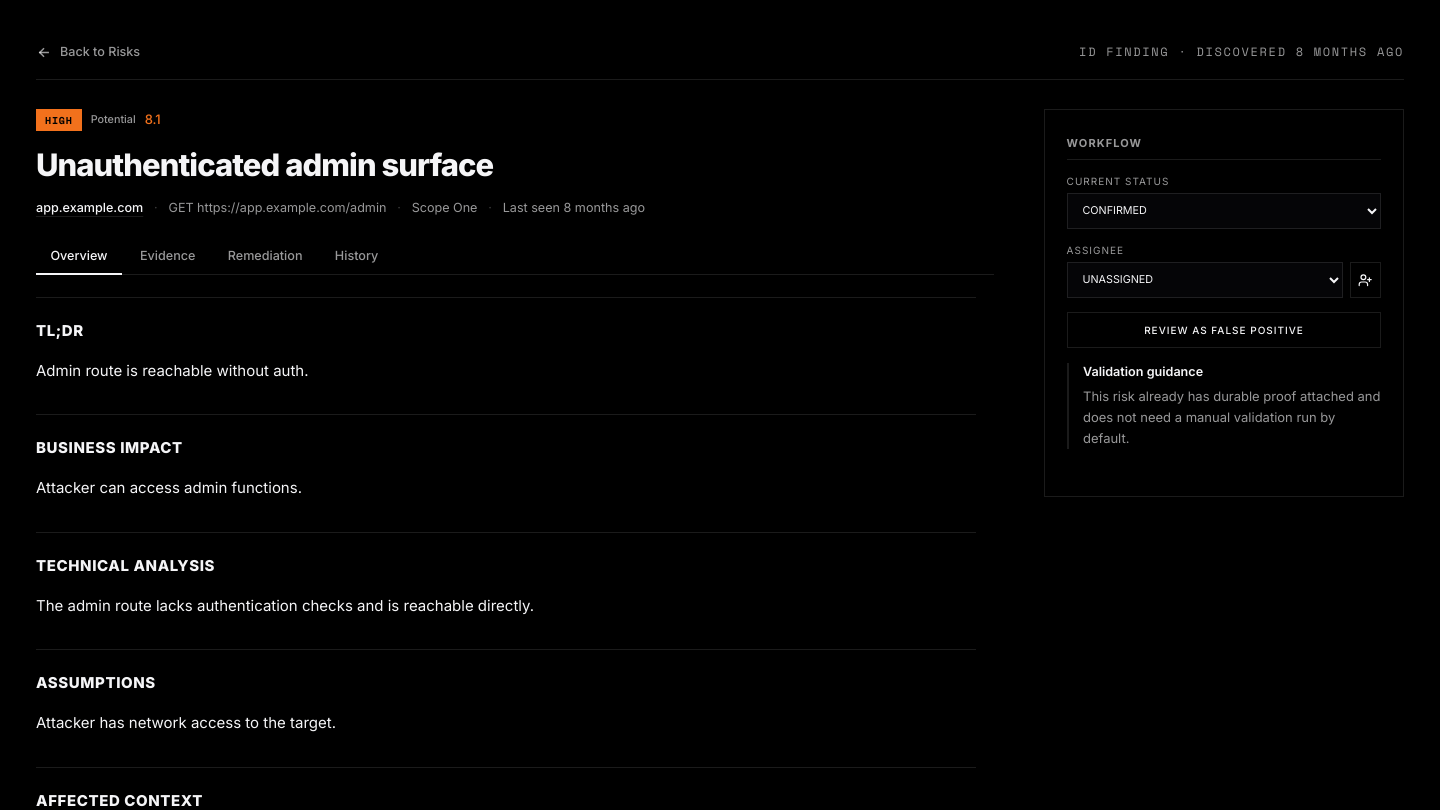
FindingDetailPage validation workflow › renders http_exchange evidence properly without attempting download
This screenshot has width=1440, height=810.
Click the tab "Evidence" at (168, 256), box [126,238,210,274]
(page scrolled)
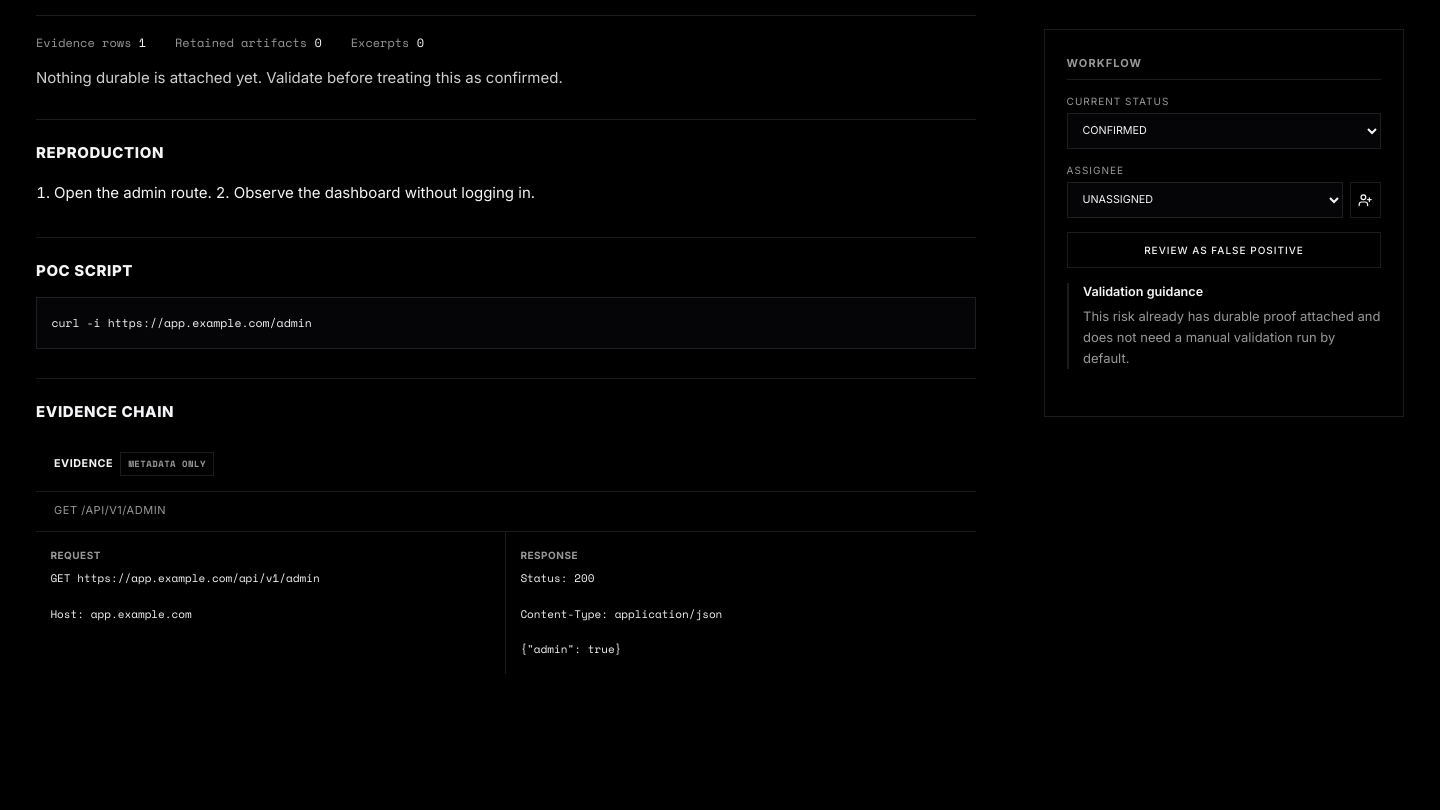
Check: the text "GET /api/v1/admin" is shown, box [36,492,976,532]
Check: the text "Host: app.example.com" is shown, box [50,570,320,622]
Check: the text "Status: 200 Content-Type: application/json {\"admin\": true}" is shown, box [520,570,722,657]
